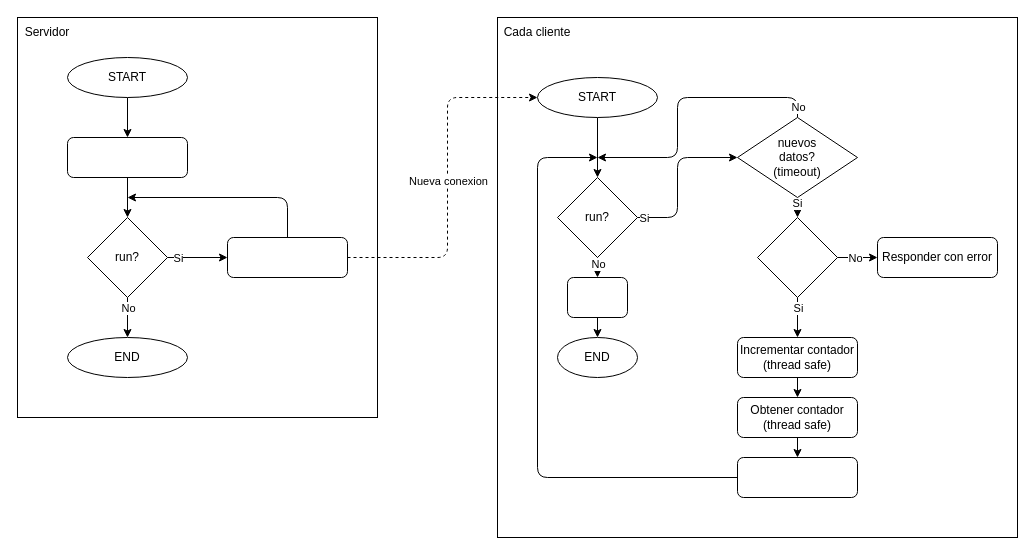
The diagram is 1035 pixels wide and 555 high, and some of its shapes have lost their labels. Here are the shapes that lost their labels. From the top down, the box of each, then its label:
(66, 136, 188, 178): Inicializacion de sockets
(226, 236, 348, 278): Aceptar conexiones entrantes
(756, 216, 838, 298): parseo ok?
(566, 276, 628, 318): Cerrar conexión
(736, 456, 858, 498): Responder con valor de contador
